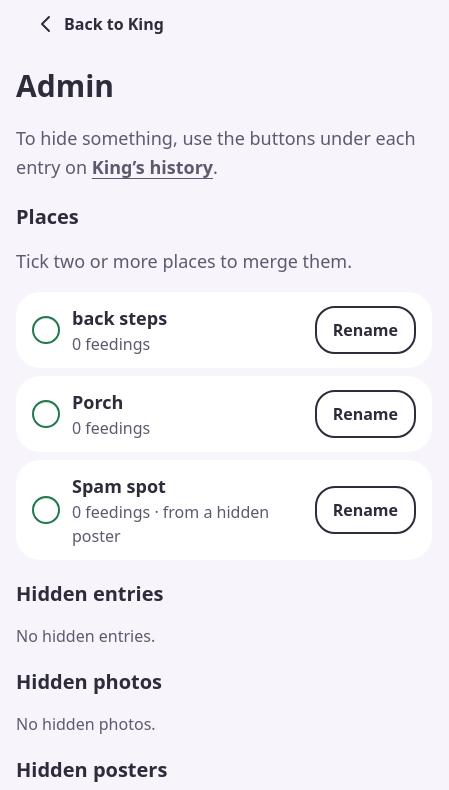
AdminPage — renaming a place › saves the trimmed name, shows it, tells the app, and returns focus to the place
Click the button with aria-label "Rename Porch" at (365, 414), box [315,390,416,438]
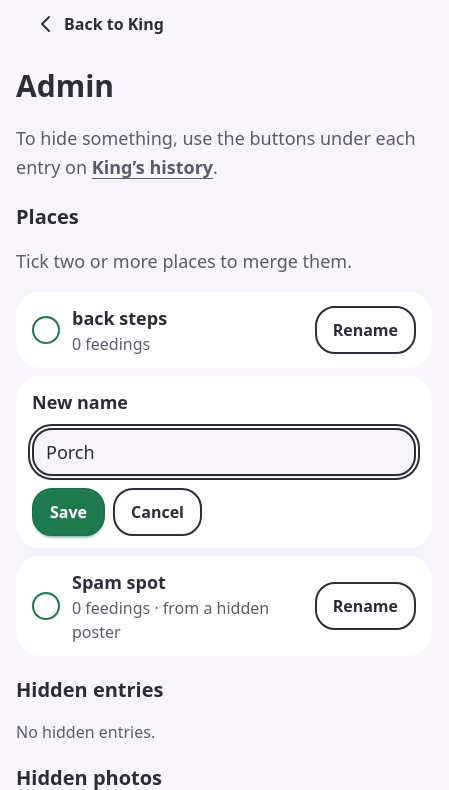
Replace the text in the field labelled "New name" with "  Front porch " at (224, 452), box [32,428,416,476]
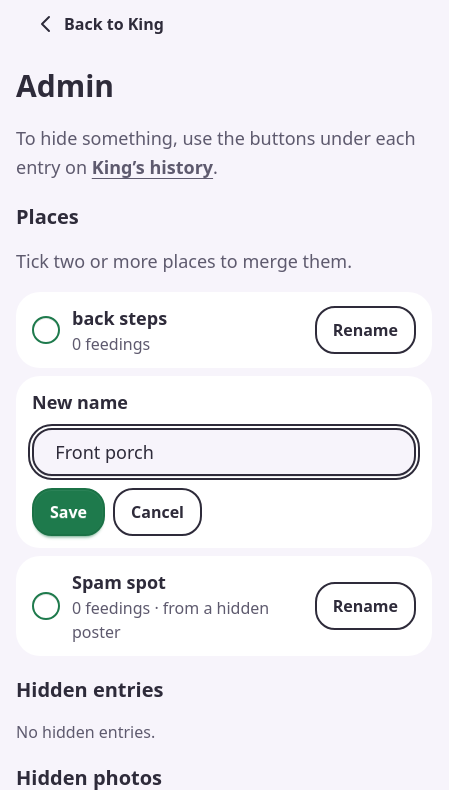
Click the button "Save" at (68, 512), box [32,488,105,536]
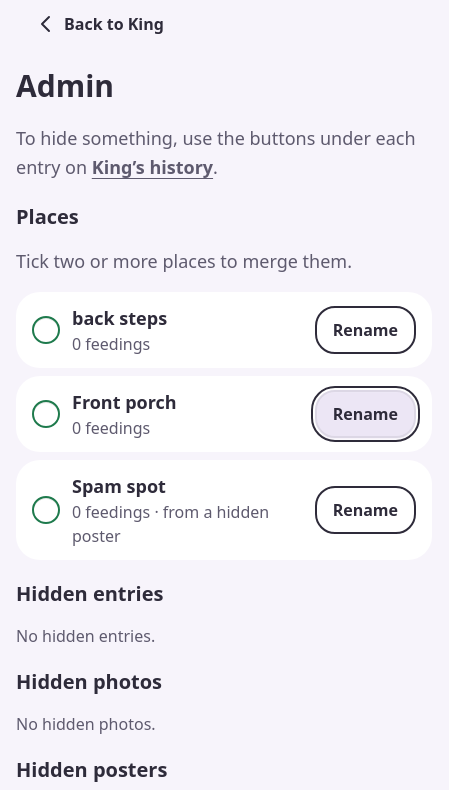
Check: the label "New name" is gone
